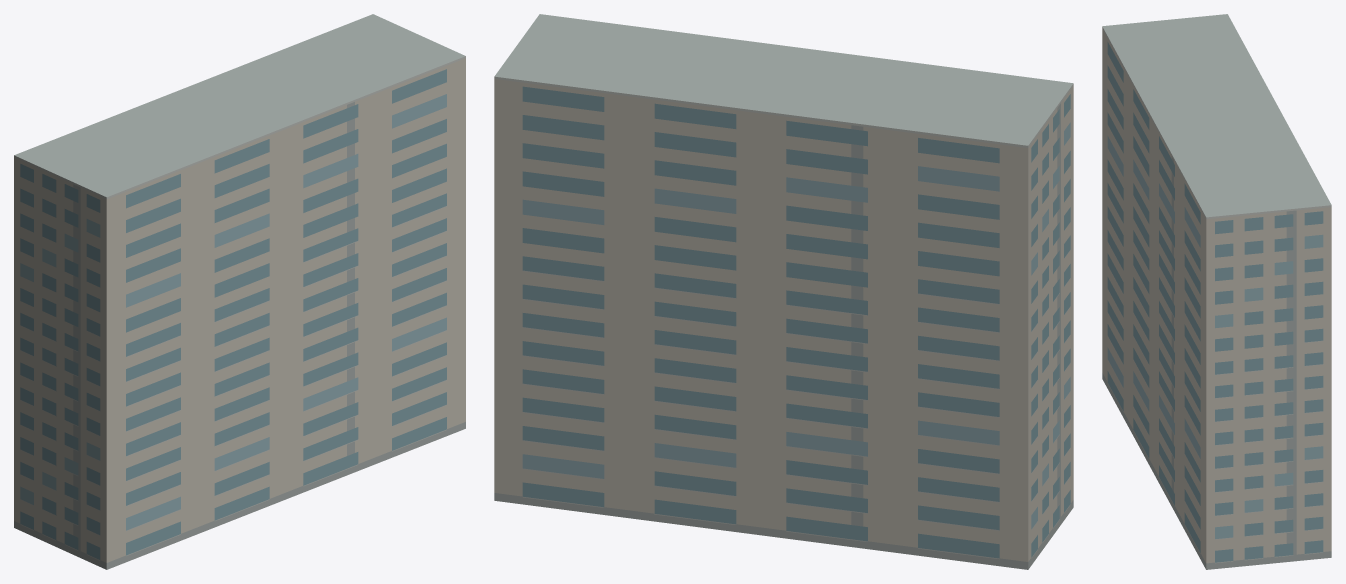
Rendered from residential-01ea5d1c-04bd-415e-b8e2-ba2cea2c4dba.glb.
The picture shows the model from 3 angles, left to right: view 1: azimuth 30°, elevation 25°; view 2: azimuth 150°, elevation 25°; view 3: azimuth 270°, elevation 25°; orthographic projection. The views are drawn at different scales.
Visible parts, largest first — view 1: residential-01ea5d1c-04bd-415e-b8e2-ba2cea2c4dba.tmp; view 2: residential-01ea5d1c-04bd-415e-b8e2-ba2cea2c4dba.tmp; view 3: residential-01ea5d1c-04bd-415e-b8e2-ba2cea2c4dba.tmp.
Part boxes in pixels (x1,y1,x2,y2): residential-01ea5d1c-04bd-415e-b8e2-ba2cea2c4dba.tmp: (14,14,465,569); residential-01ea5d1c-04bd-415e-b8e2-ba2cea2c4dba.tmp: (494,14,1073,569); residential-01ea5d1c-04bd-415e-b8e2-ba2cea2c4dba.tmp: (1102,14,1331,569).
Bounding box in the file's own units: 56.62 × 45.75 × 27.01.
